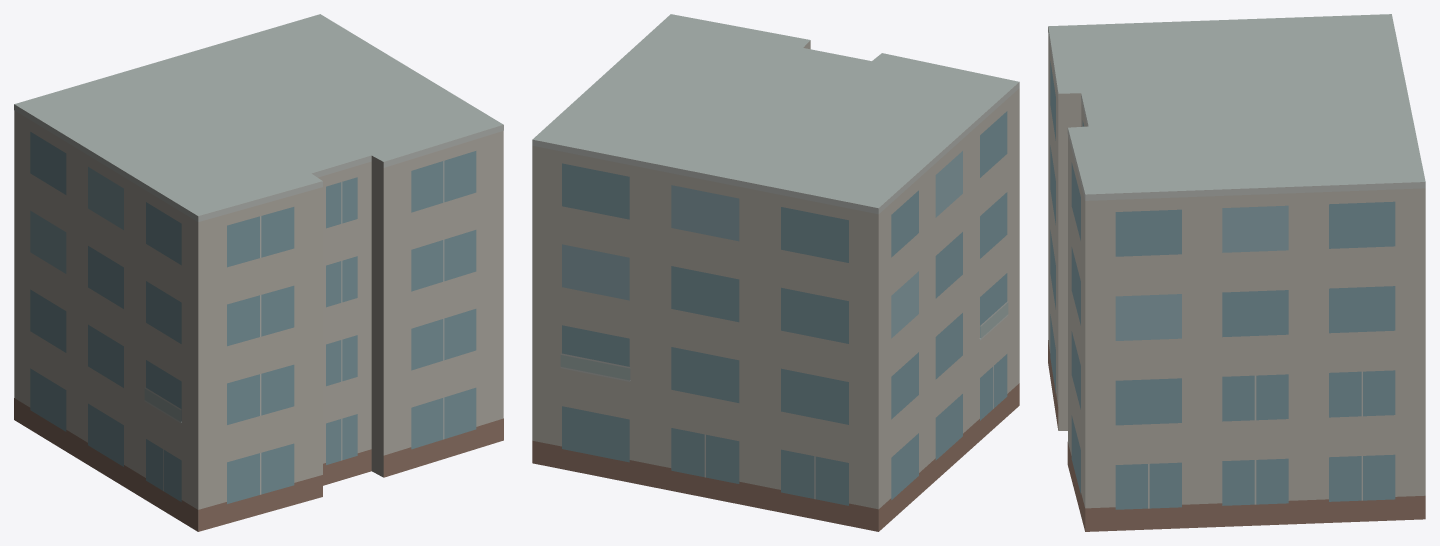
File: survey-upis-32699710.glb
The picture shows the model from 3 angles, left to right: view 1: azimuth 30°, elevation 25°; view 2: azimuth 150°, elevation 25°; view 3: azimuth 270°, elevation 25°; orthographic projection. The views are drawn at different scales.
Parts seen in each view (by area): view 1: survey-upis-32699710.tmp; view 2: survey-upis-32699710.tmp; view 3: survey-upis-32699710.tmp.
Part boxes in pixels (x1=…): survey-upis-32699710.tmp: x1=14, y1=14, x2=503, y2=531; survey-upis-32699710.tmp: x1=532, y1=14, x2=1019, y2=531; survey-upis-32699710.tmp: x1=1048, y1=14, x2=1425, y2=531.
Bounding box in the file's own units: 14.7 × 12.8 × 12.99.
